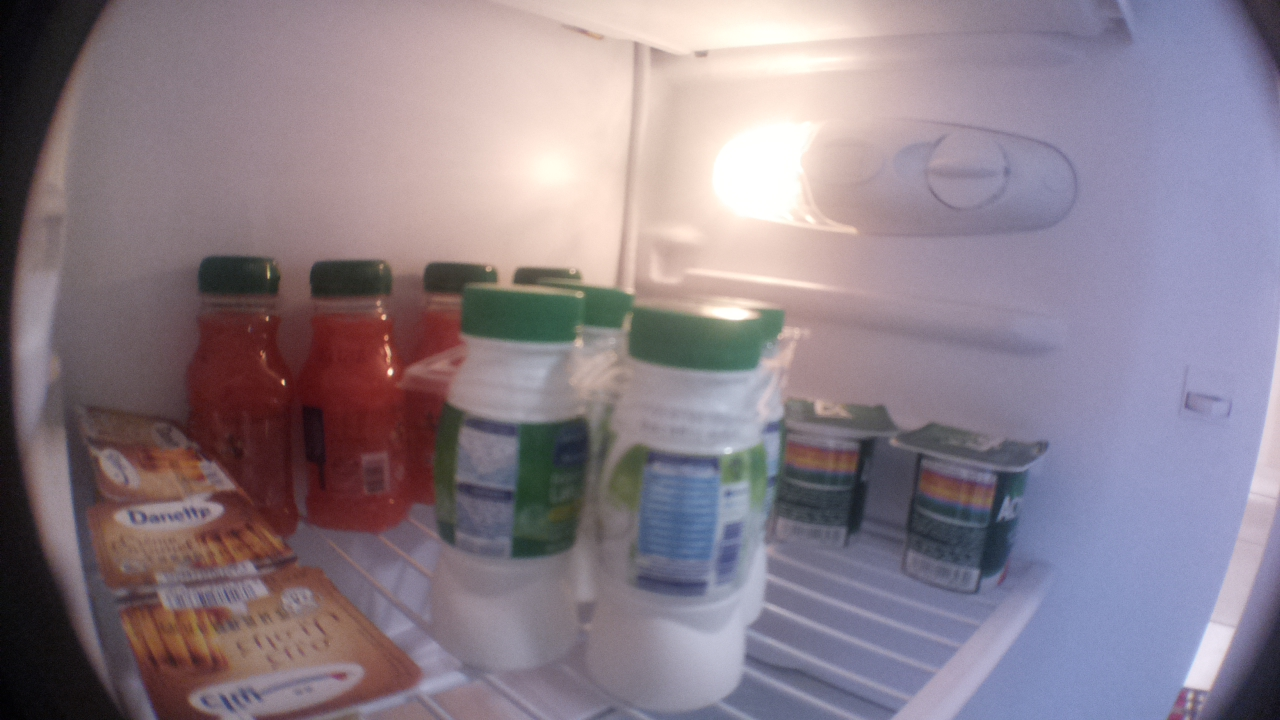caramel: (111, 568, 426, 720), (88, 495, 301, 585), (87, 437, 246, 502), (73, 397, 209, 443)
juice: (185, 251, 296, 551), (297, 257, 416, 536), (421, 259, 451, 519), (509, 260, 586, 280)
laban: (589, 294, 761, 714), (428, 283, 583, 671), (759, 298, 795, 574), (574, 282, 629, 392)
yoghurt: (884, 421, 1072, 598), (779, 396, 893, 554)
